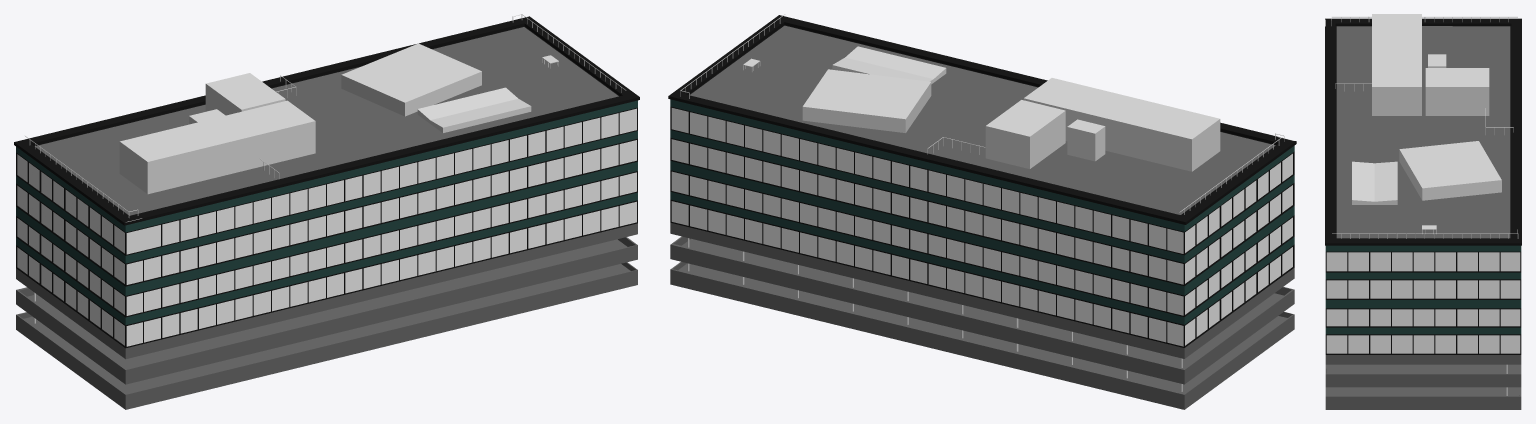
The model's file is Dach13122021.gltf.
3 views of the same model, side by side, from view 1: azimuth 30°, elevation 25°; view 2: azimuth 150°, elevation 25°; view 3: azimuth 270°, elevation 25° (orthographic). The views are drawn at different scales.
Visible parts, largest first — view 1: Building, Vents, Biforot_dummy, Butterfly_dummy, Solar_Storage; view 2: Building, Vents, Biforot_dummy, Solar_Storage, Butterfly_dummy, Cube.006; view 3: Building, Vents, Biforot_dummy, Solar_Storage, Butterfly_dummy, Cylinder.004, Cylinder.006, Cube.006.
Boxes of the visible parts, x1,y1,x2,y2 form: Building: (14, 16, 639, 409); Vents: (119, 100, 315, 194); Biforot_dummy: (341, 43, 481, 116); Butterfly_dummy: (417, 87, 531, 132); Solar_Storage: (205, 73, 285, 115); Building: (668, 15, 1296, 409); Vents: (1023, 78, 1220, 171); Biforot_dummy: (802, 69, 931, 132); Solar_Storage: (985, 100, 1065, 168); Butterfly_dummy: (832, 46, 946, 84); Cube.006: (1067, 119, 1105, 161); Building: (1325, 18, 1521, 409); Vents: (1372, 14, 1421, 115); Biforot_dummy: (1399, 141, 1501, 200); Solar_Storage: (1425, 68, 1489, 115); Butterfly_dummy: (1352, 161, 1397, 204); Cylinder.004: (1332, 16, 1517, 21); Cylinder.006: (1332, 233, 1518, 238); Cube.006: (1428, 54, 1446, 67).
Bounding box in the file's own units: 58.37 × 23.5 × 21.64.
